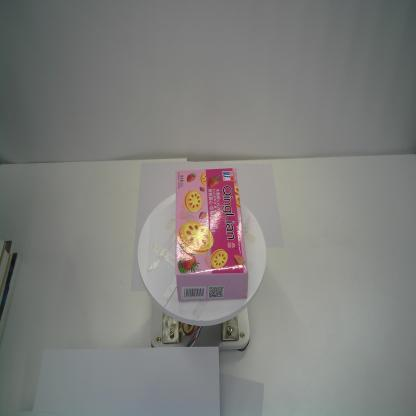Dessert: (172, 166, 250, 302)
